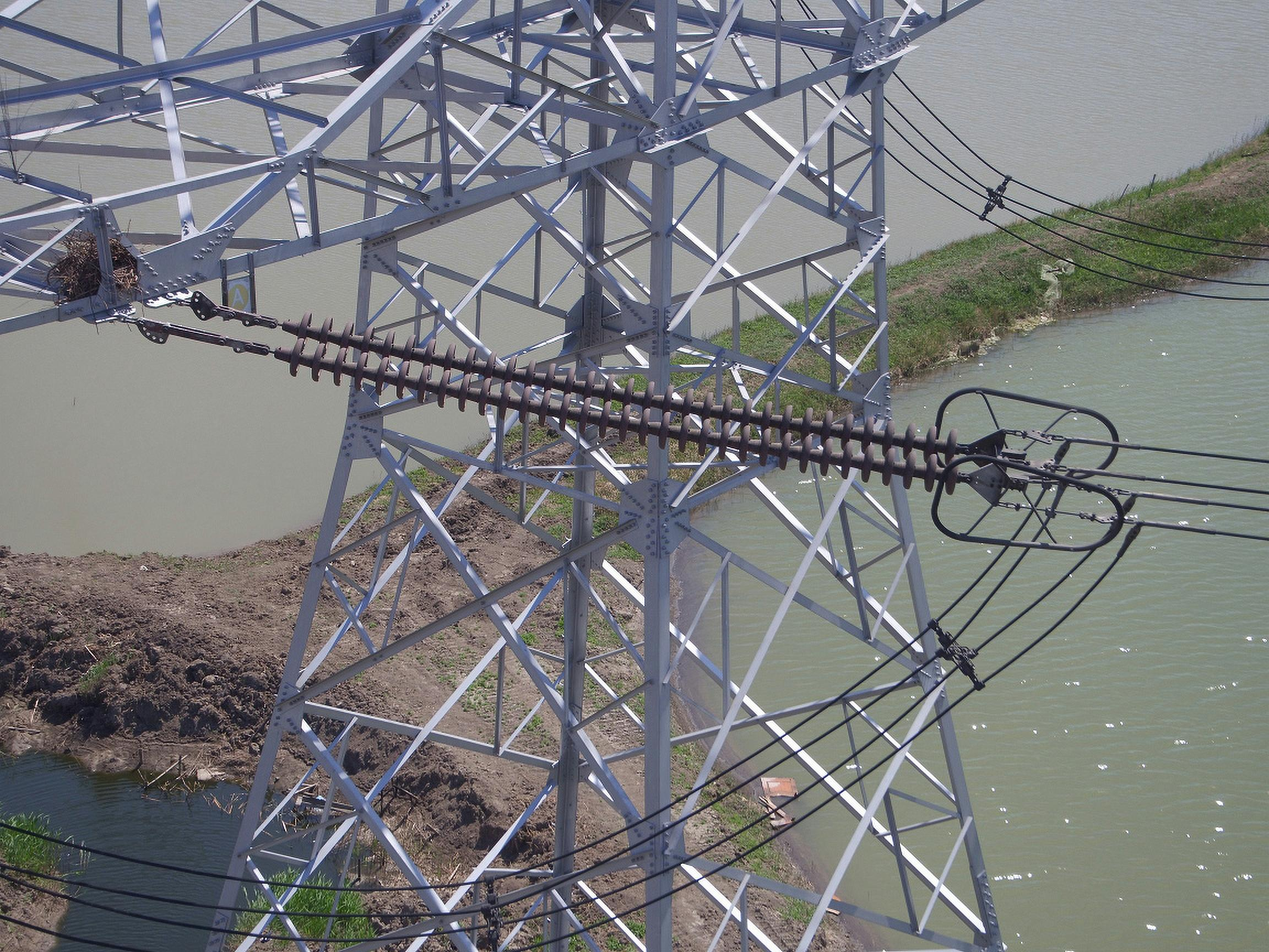insulator: (274, 305, 966, 501)
